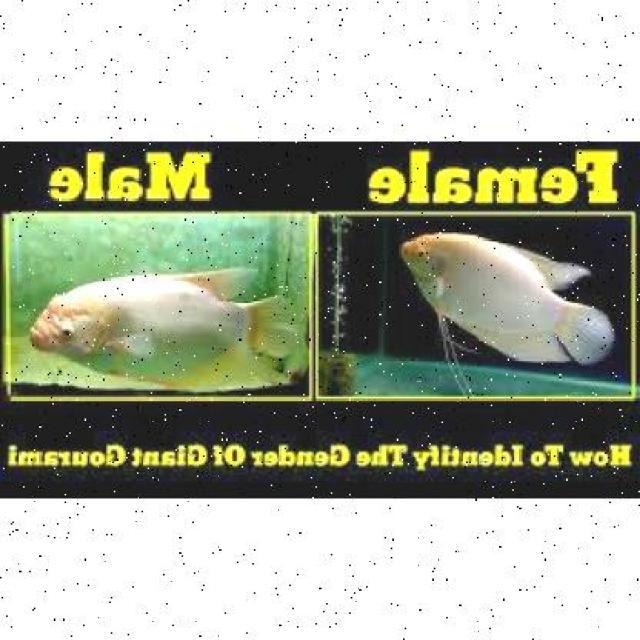gurame: (21, 268, 300, 387), (400, 229, 612, 368)
